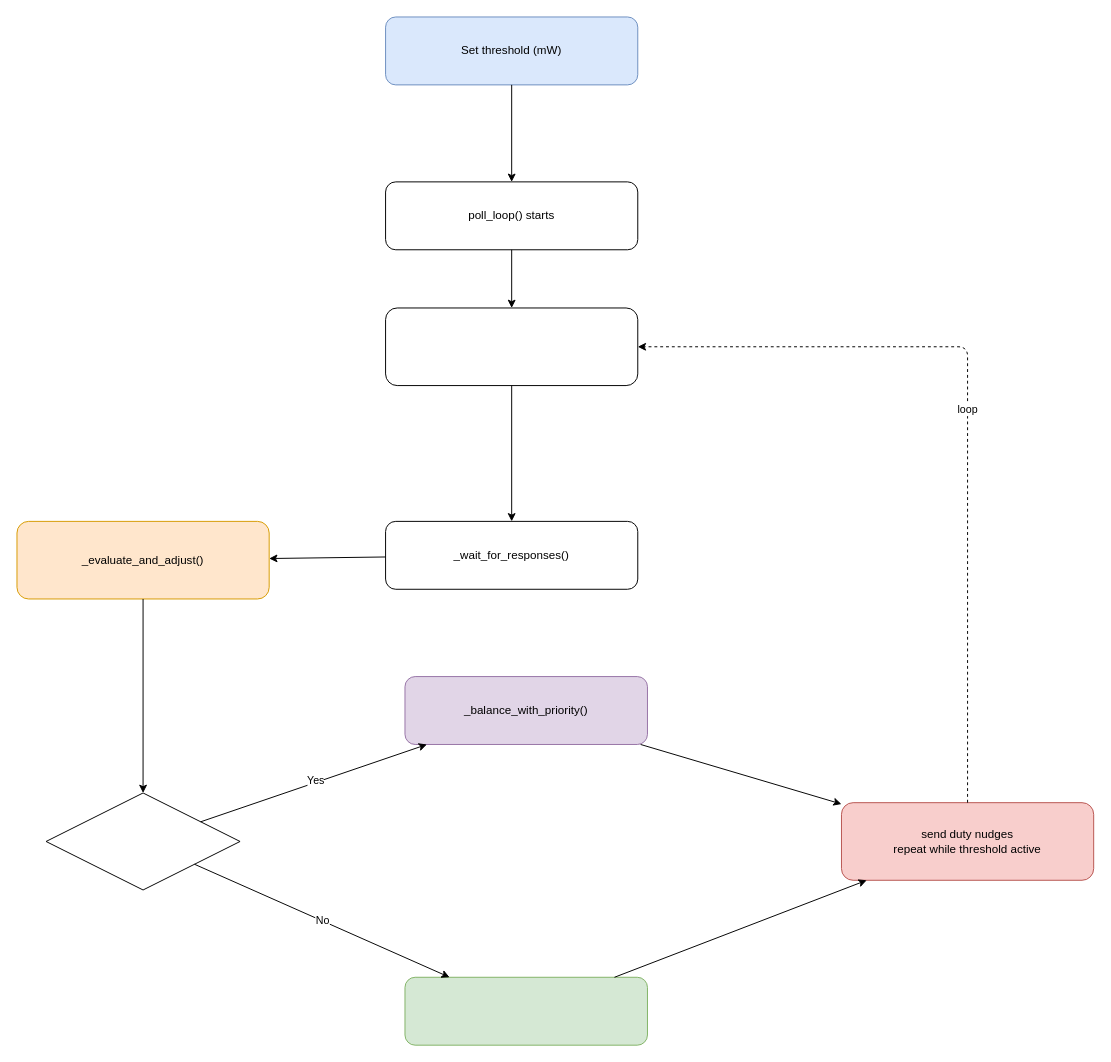
The diagram is 1111 pixels wide and 1062 high, and some of its shapes have lost their labels. Each missing label, with the centre of its shape:
"_balance_proportional()" goes at (x=525, y=1010).
"_poll_all_nodes() send ALL:READ" goes at (x=511, y=346).
"Priority node set?" goes at (x=142, y=841).
